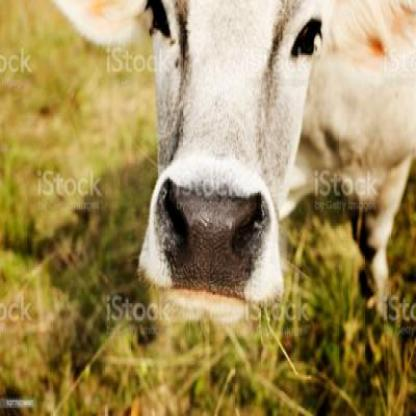lower: (180, 294, 238, 318)
mouth: (139, 158, 283, 323)
upper: (196, 219, 218, 254)
